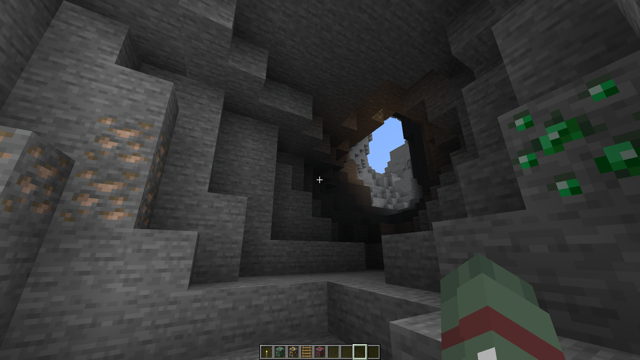coal: (400, 160, 411, 172)
emerald: (493, 63, 640, 205)
iron: (1, 115, 168, 222)
